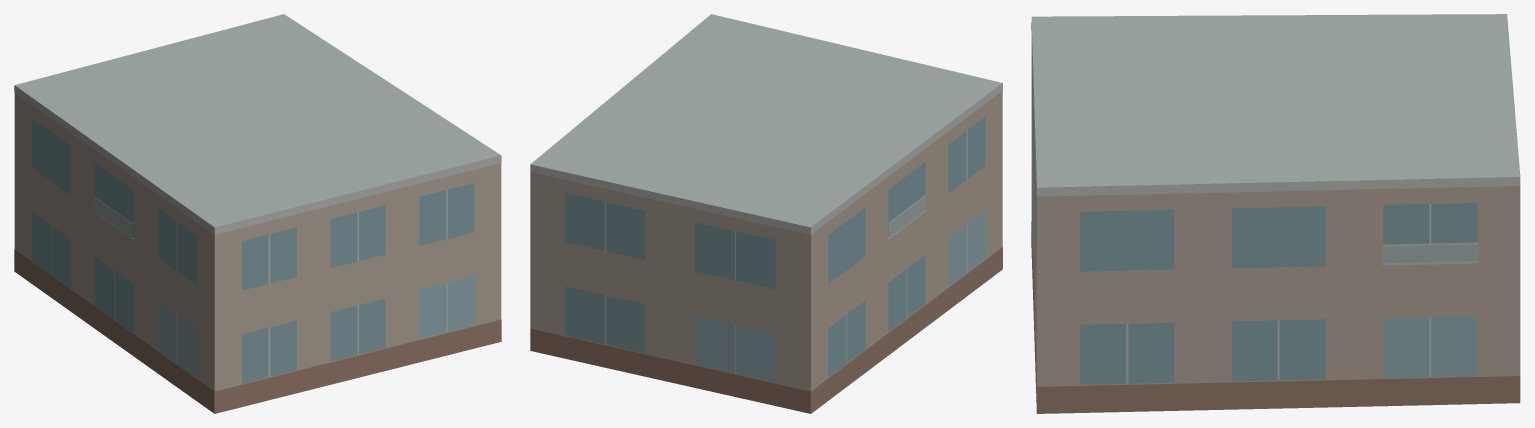
Rendered from survey-upis-32929415.glb.
The picture shows the model from 3 angles, left to right: view 1: azimuth 30°, elevation 25°; view 2: azimuth 150°, elevation 25°; view 3: azimuth 270°, elevation 25°; orthographic projection. The views are drawn at different scales.
Visible parts, largest first — view 1: survey-upis-32929415.tmp; view 2: survey-upis-32929415.tmp; view 3: survey-upis-32929415.tmp.
Boxes of the visible parts, x1=… form: survey-upis-32929415.tmp: x1=14, y1=14, x2=501, y2=413; survey-upis-32929415.tmp: x1=530, y1=14, x2=1002, y2=413; survey-upis-32929415.tmp: x1=1031, y1=14, x2=1520, y2=413.
Bounding box in the file's own units: 10.05 × 6.1 × 11.96.
